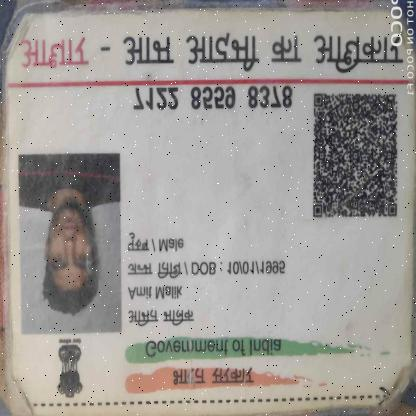aadhaar_card: (2, 7, 412, 415)
